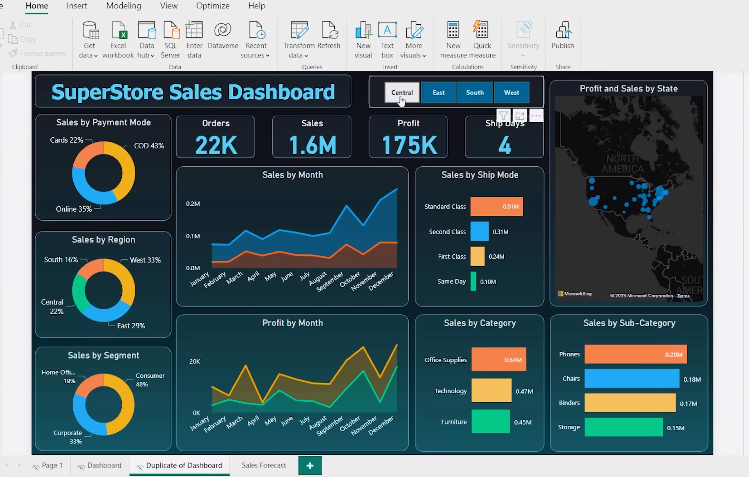

The dashboard page shown, as its layout file describes it:
{"tool":"powerbi","page":{"name":"Page 1","canvas":[1280,720],"ordinal":0},"visuals":[{"type":"clusteredBarChart","title":" Sales by Category","fields":{"Category":["Sheet1.Category"],"Y":["Sum(Sheet1.Sales)"]},"box":[711.5,422.9,261.7,282.9],"z":0},{"type":"clusteredBarChart","title":" Sales by sub-Category","fields":{"Y":["Sum(Sheet1.Sales)"],"Category":["Sheet1.Sub-Category"]},"box":[984.5,418.7,280.1,287.2],"z":1},{"type":"clusteredBarChart","title":" Sales by ship mode","fields":{"Y":["Sum(Sheet1.Sales)"],"Category":["Sheet1.Ship Mode"]},"box":[711.5,94.8,226.3,312.6],"z":2},{"type":"stackedAreaChart","title":"Monthly Sales by YOY","fields":{"Y":["Sum(Sheet1.Sales)"],"Category":["Sheet1.Order Date.Variation.Date Hierarchy.Month","Sheet1.Order Date.Variation.Date Hierarchy.Day"],"Series":["Sheet1.Order Date.Variation.Date Hierarchy.Year"]},"box":[268.8,206.5,432.8,241.9],"z":3},{"type":"stackedAreaChart","title":"Monthly profit by YOY","fields":{"Category":["Sheet1.Order Date.Variation.Date Hierarchy.Month","Sheet1.Order Date.Variation.Date Hierarchy.Day"],"Series":["Sheet1.Order Date.Variation.Date Hierarchy.Year"],"Y":["Sum(Sheet1.Profit)"]},"box":[268.8,462.6,432.8,241.9],"z":4},{"type":"map","fields":{"Category":["Sheet1.State"],"Size":["Sum(Sheet1.Sales)"]},"box":[947.7,15.6,316.9,391.8],"z":5},{"type":"donutChart","fields":{"Category":["Sheet1.Segment"],"Y":["Sum(Sheet1.Sales)"]},"box":[7.1,496.5,251.8,223.5],"z":6},{"type":"donutChart","fields":{"Y":["Sum(Sheet1.Sales)"],"Category":["Sheet1.Payment Mode"]},"box":[8.5,84.9,250.4,196.6],"z":7},{"type":"donutChart","fields":{"Y":["Sum(Sheet1.Sales)"],"Category":["Sheet1.Region"]},"box":[7.1,284.3,251.8,210.8],"z":8},{"type":"slicer","fields":{"Values":["Sheet1.Region"]},"box":[523.4,15.6,420.1,69.3],"z":9},{"type":"textbox","box":[7.1,12.7,502.2,72.1],"z":10},{"type":"card","title":"Sales","fields":{"Values":["Sum(Sheet1.Sales)"]},"box":[280.1,94.8,140,89.1],"z":11},{"type":"card","title":"Profit","fields":{"Values":["Sum(Sheet1.Profit)"]},"box":[434.3,94.8,124.5,89.1],"z":12},{"type":"card","title":"Delivery days","fields":{"Values":["Avg(Sheet1.average delivary)"]},"box":[577.1,94.8,124.5,89.1],"z":13}]}

Visuals, with their boxes on the page's 1280x720 design canvas (x1, y1, x2, y2). These are canvas units, not pixel positions in the 749x477 screenshot, which may show the page scaled, cropped or inside an application window:
" Sales by Category" clusteredBarChart: [712,423,973,706]
" Sales by sub-Category" clusteredBarChart: [984,419,1265,706]
" Sales by ship mode" clusteredBarChart: [712,95,938,407]
"Monthly Sales by YOY" stackedAreaChart: [269,206,702,448]
"Monthly profit by YOY" stackedAreaChart: [269,463,702,704]
map - Sheet1.State x Sum(Sheet1.Sales): [948,16,1265,407]
donutChart - Sheet1.Segment x Sum(Sheet1.Sales): [7,496,259,720]
donutChart - Sum(Sheet1.Sales) x Sheet1.Payment Mode: [8,85,259,282]
donutChart - Sum(Sheet1.Sales) x Sheet1.Region: [7,284,259,495]
slicer - Sheet1.Region: [523,16,944,85]
textbox: [7,13,509,85]
"Sales" card: [280,95,420,184]
"Profit" card: [434,95,559,184]
"Delivery days" card: [577,95,702,184]
